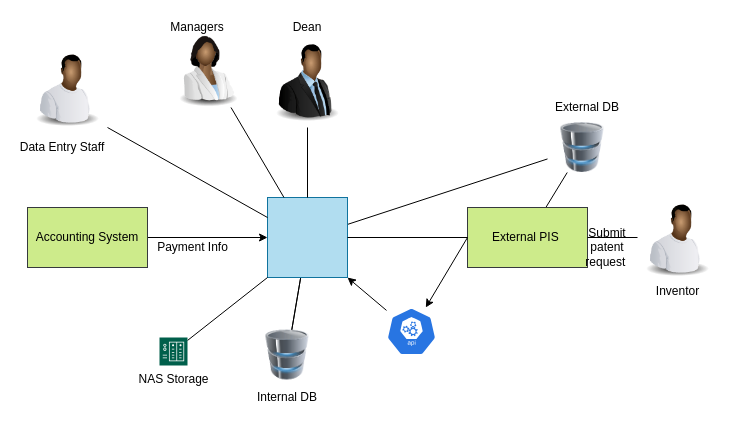
This 734x424 diagram has some shape labels left out. The box of each missing label's shape, as (x1, y1, x2, y2) in pixels:
IPIMS: (266, 196, 348, 278)
Save data via API: (386, 306, 436, 356)
